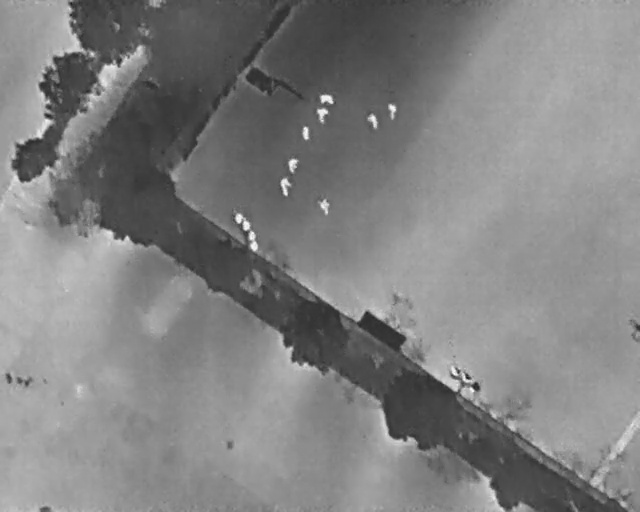Person: (365, 111, 381, 131), (316, 92, 337, 107), (318, 196, 330, 217), (315, 107, 329, 124), (280, 178, 292, 197), (287, 158, 299, 174), (387, 103, 398, 120), (302, 126, 310, 142)
